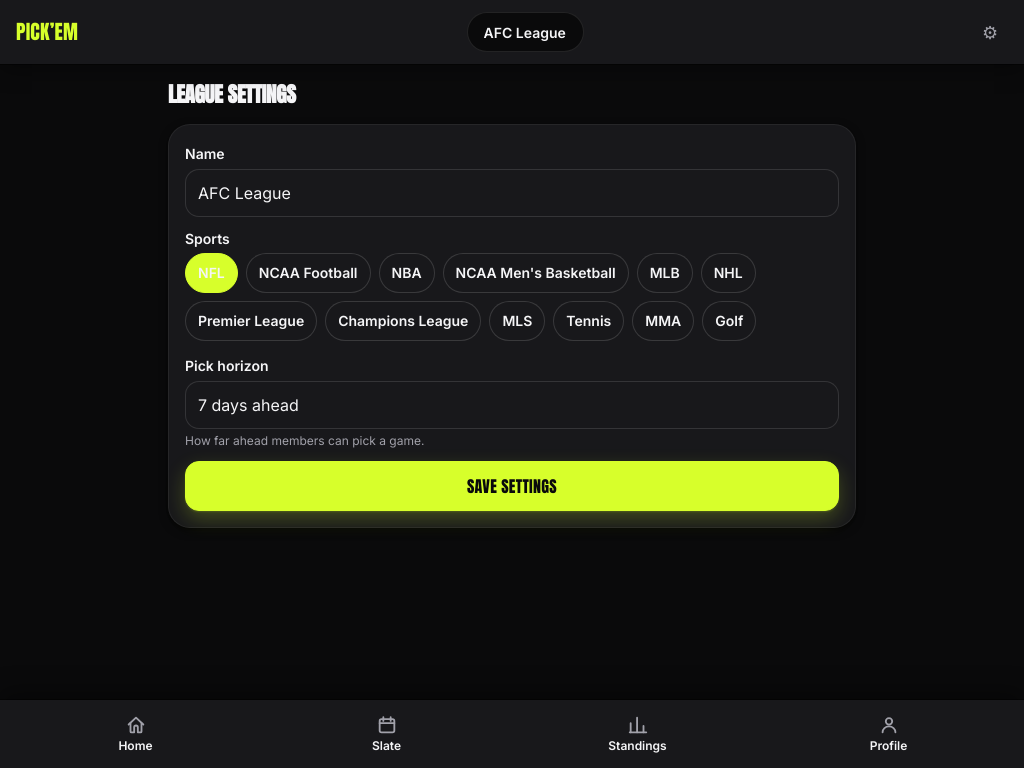
it: LeagueSettingsScreen › blocks submission locally when every sport is unchecked
The width and height of the screenshot is (1024, 768).
Click the checkbox labelled "NFL": (211, 273) [185,253,238,293]
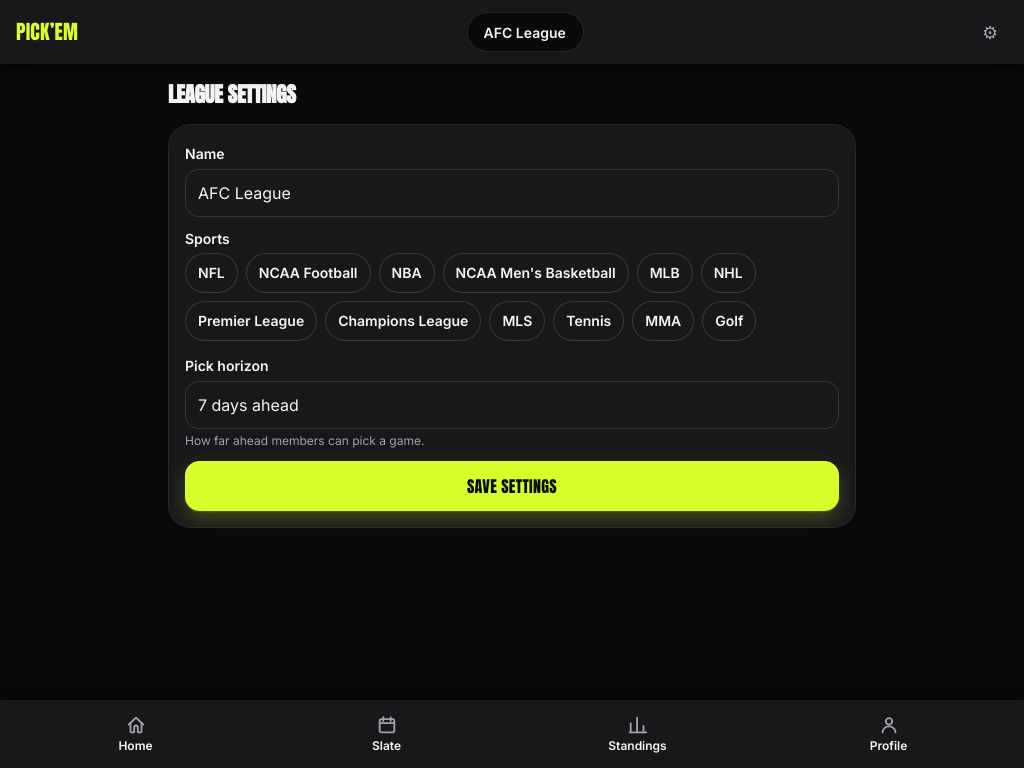
Click the button "Save settings": (512, 486) [185,461,839,511]
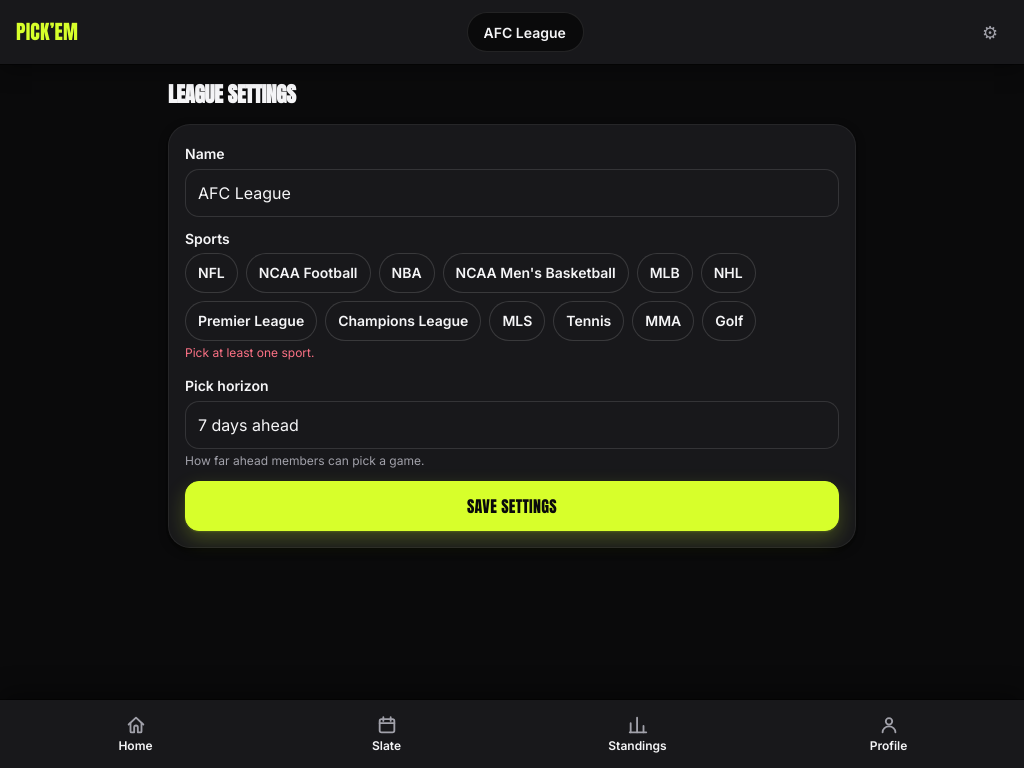
Now the text "Pick at least one sport." is shown, box [185,345,314,360]
